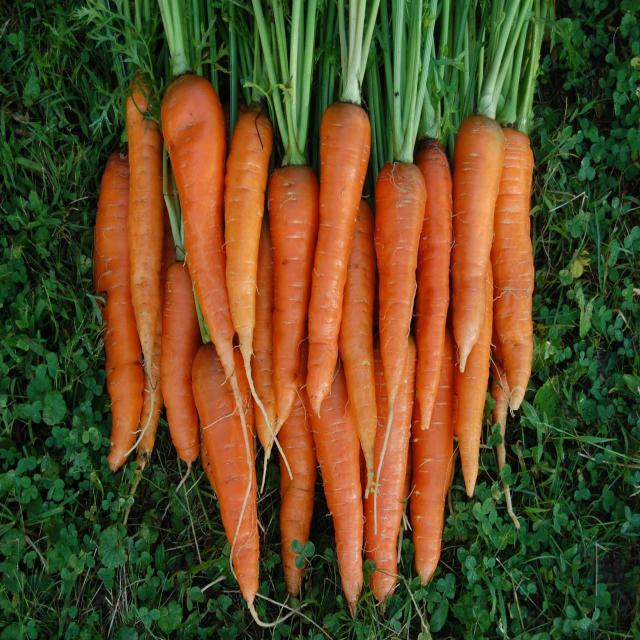Fresh_Carrot: (155, 74, 229, 368), (298, 363, 373, 610), (260, 159, 310, 436), (374, 152, 410, 457), (454, 110, 481, 376), (318, 94, 342, 385)
